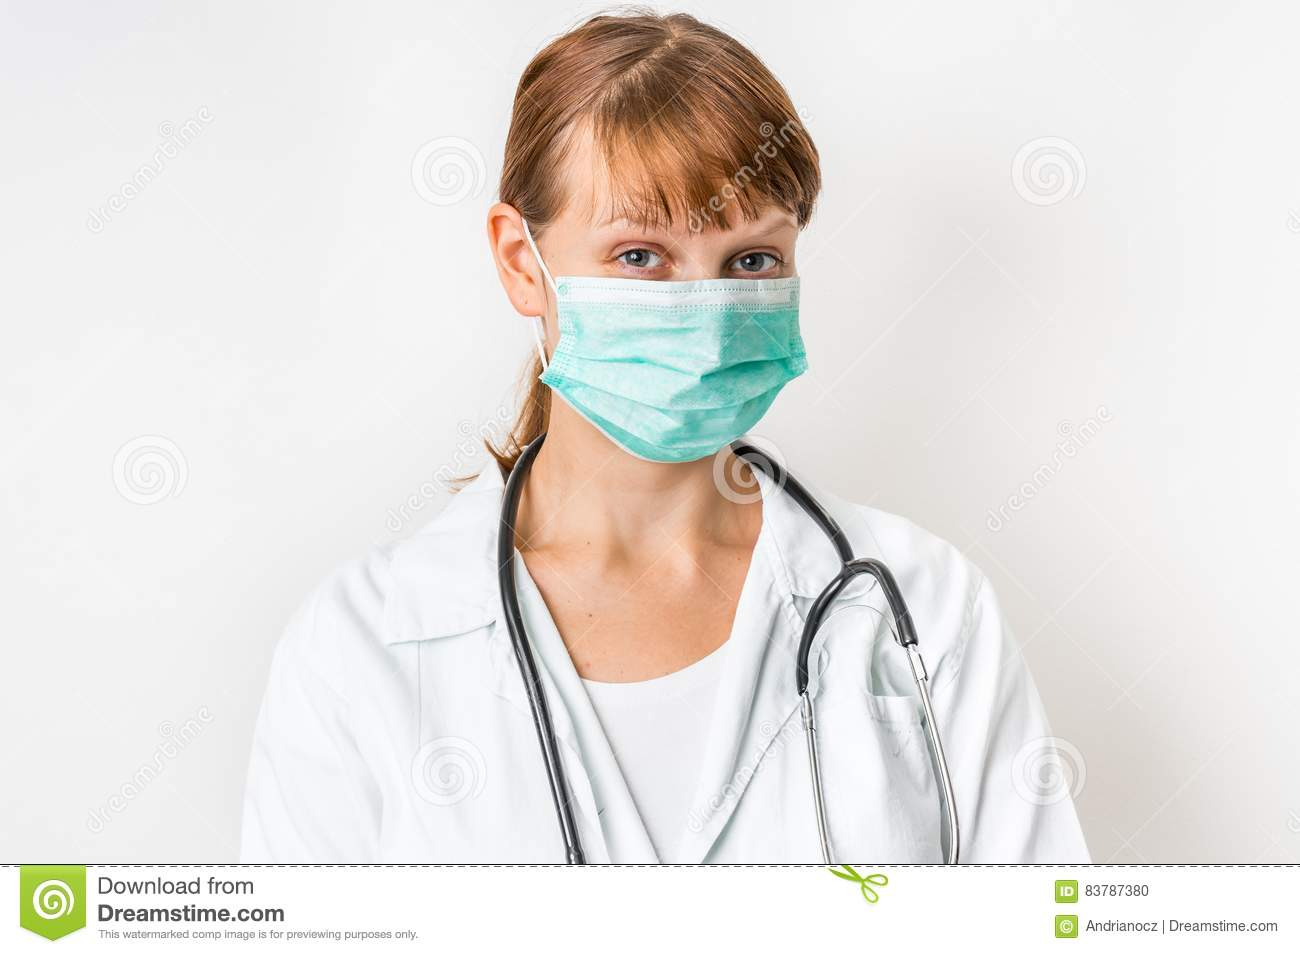mask: (533, 274, 828, 474)
